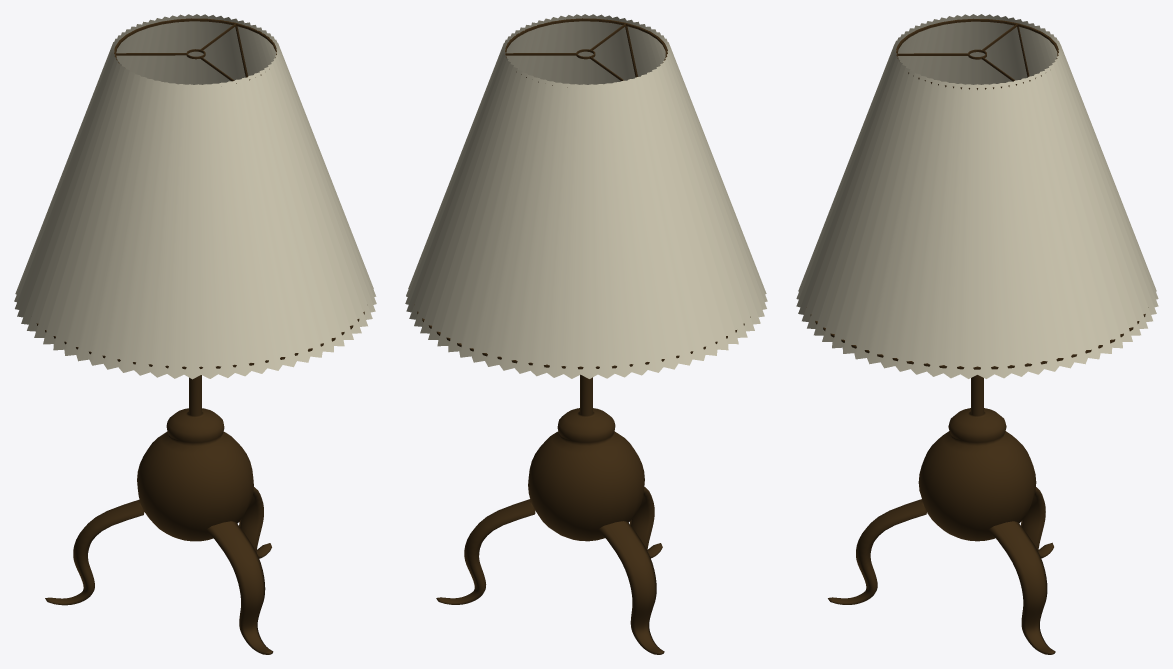
The model's file is AP_Lamp02_HB.fbx.
The picture shows the model from 3 angles, left to right: view 1: azimuth 30°, elevation 25°; view 2: azimuth 150°, elevation 25°; view 3: azimuth 270°, elevation 25°; orthographic projection.
Visible parts, largest first — view 1: pCylinder21, pSphere11, pSphere12, pSphere13, pCylinder20, pSphere14; view 2: pCylinder21, pSphere11, pSphere13, pSphere14, pCylinder20, pSphere12; view 3: pCylinder21, pSphere11, pSphere14, pSphere12, pCylinder20, pSphere13.
Boxes of the visible parts, left/top/right/bottom form: pCylinder21: left=14, top=14, right=376, bottom=379; pSphere11: left=137, top=375, right=253, bottom=541; pSphere12: left=206, top=521, right=273, bottom=654; pSphere13: left=45, top=499, right=144, bottom=605; pCylinder20: left=36, top=18, right=364, bottom=369; pSphere14: left=239, top=487, right=271, bottom=558; pCylinder21: left=405, top=14, right=767, bottom=378; pSphere11: left=528, top=374, right=644, bottom=541; pSphere13: left=598, top=521, right=664, bottom=654; pSphere14: left=436, top=499, right=535, bottom=604; pCylinder20: left=414, top=18, right=750, bottom=369; pSphere12: left=630, top=487, right=662, bottom=558; pCylinder21: left=796, top=14, right=1158, bottom=378; pSphere11: left=918, top=375, right=1036, bottom=541; pSphere14: left=988, top=521, right=1055, bottom=654; pSphere12: left=828, top=499, right=926, bottom=604; pCylinder20: left=806, top=18, right=1148, bottom=369; pSphere13: left=1021, top=487, right=1053, bottom=558.
Bounding box in the file's own units: 0.3372 × 0.5689 × 0.3372.
